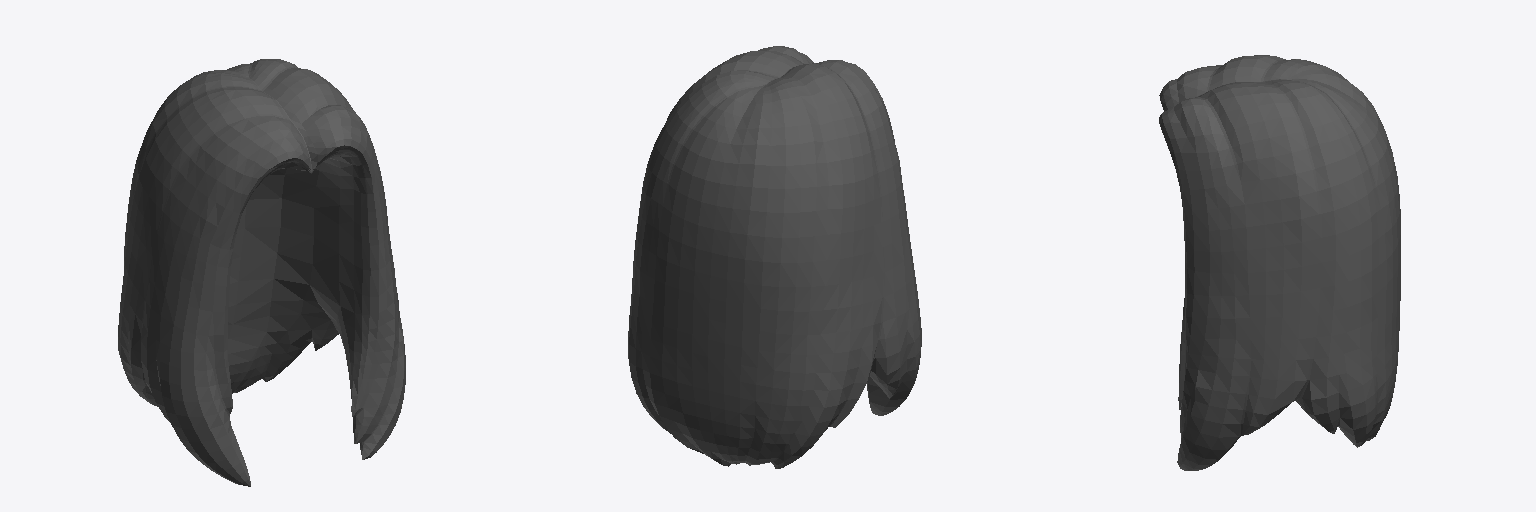
The model's file is efb.obj.
3 views of the same model, side by side, from view 1: azimuth 30°, elevation 25°; view 2: azimuth 150°, elevation 25°; view 3: azimuth 270°, elevation 25° (orthographic).
Bounding box in the file's own units: 0.3327 × 0.4763 × 0.2877.